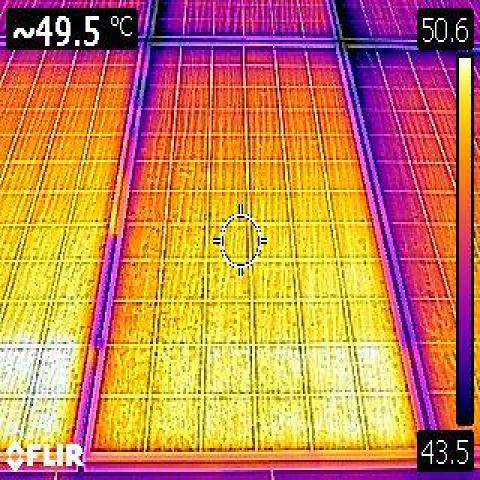fault: (310, 338, 394, 446), (0, 343, 82, 396)
